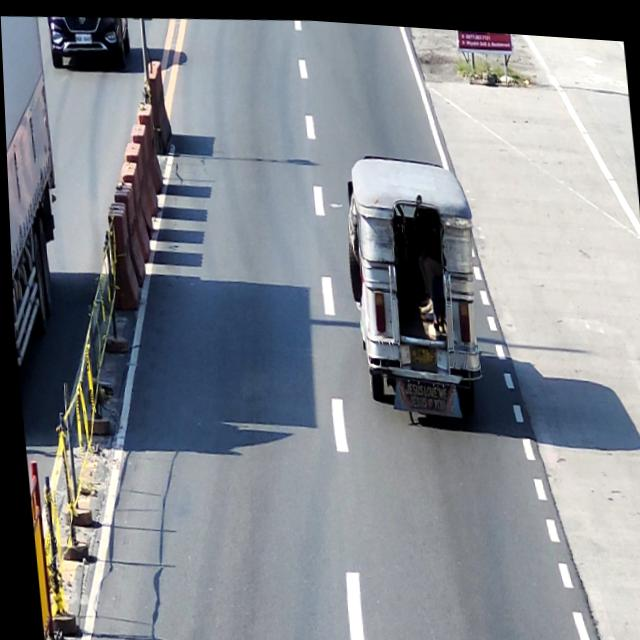Car: (47, 12, 134, 71)
Jeep: (337, 145, 484, 423)
License-Plate: (407, 341, 434, 362), (74, 31, 93, 44)
Truck: (0, 14, 72, 372)
